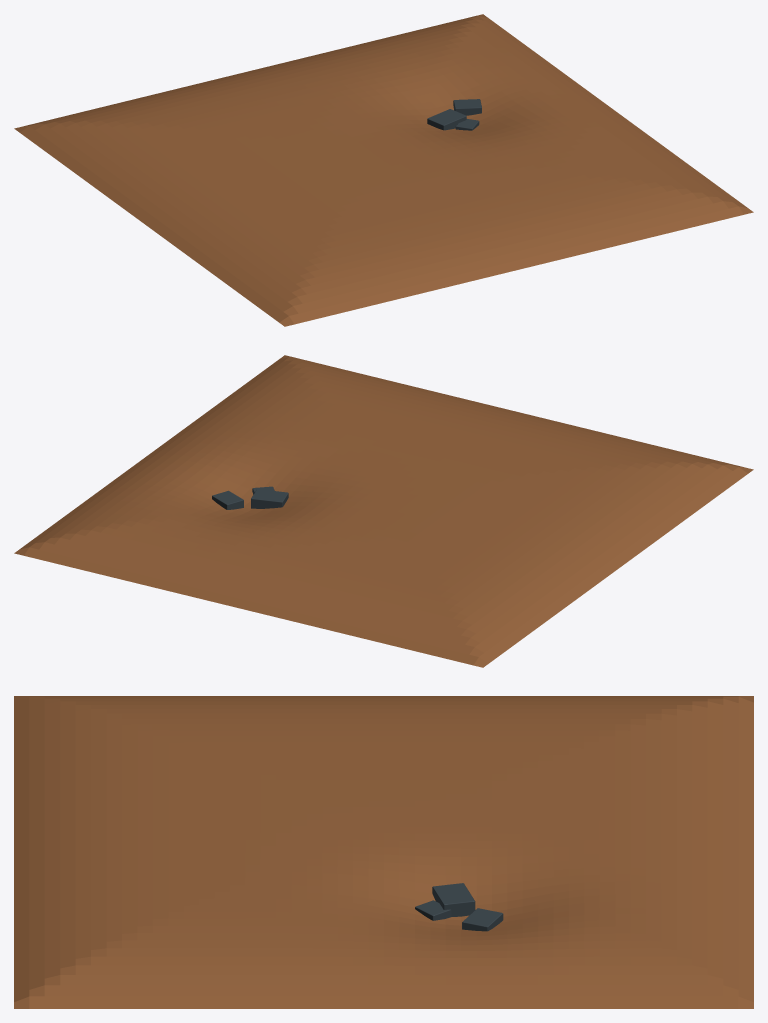
File: terrain-dug.glb
The picture shows the model from 3 angles, top to bottom: view 1: azimuth 30°, elevation 25°; view 2: azimuth 150°, elevation 25°; view 3: azimuth 270°, elevation 25°; orthographic projection. The views are drawn at different scales.
Parts seen in each view (by area): view 1: TerrainSurface, OreRockA; view 2: TerrainSurface, OreRockA; view 3: TerrainSurface, OreRockA, OreRockB.
Boxes of the visible parts, x1=… form: TerrainSurface: x1=14, y1=14, x2=753, y2=326; OreRockA: x1=427, y1=109, x2=466, y2=130; TerrainSurface: x1=14, y1=355, x2=753, y2=667; OreRockA: x1=251, y1=489, x2=288, y2=508; TerrainSurface: x1=14, y1=696, x2=753, y2=1008; OreRockA: x1=432, y1=883, x2=475, y2=916; OreRockB: x1=462, y1=908, x2=503, y2=931.
Size of the model in its own units: 9 by 0.35 by 9.
